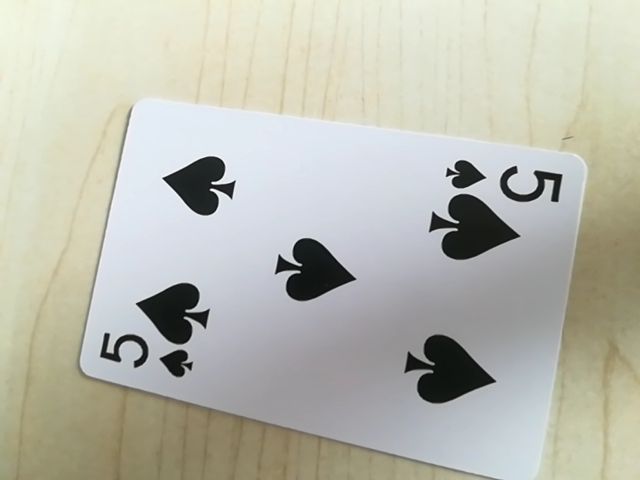ht 5: (90, 331, 203, 382), (440, 155, 564, 201)
